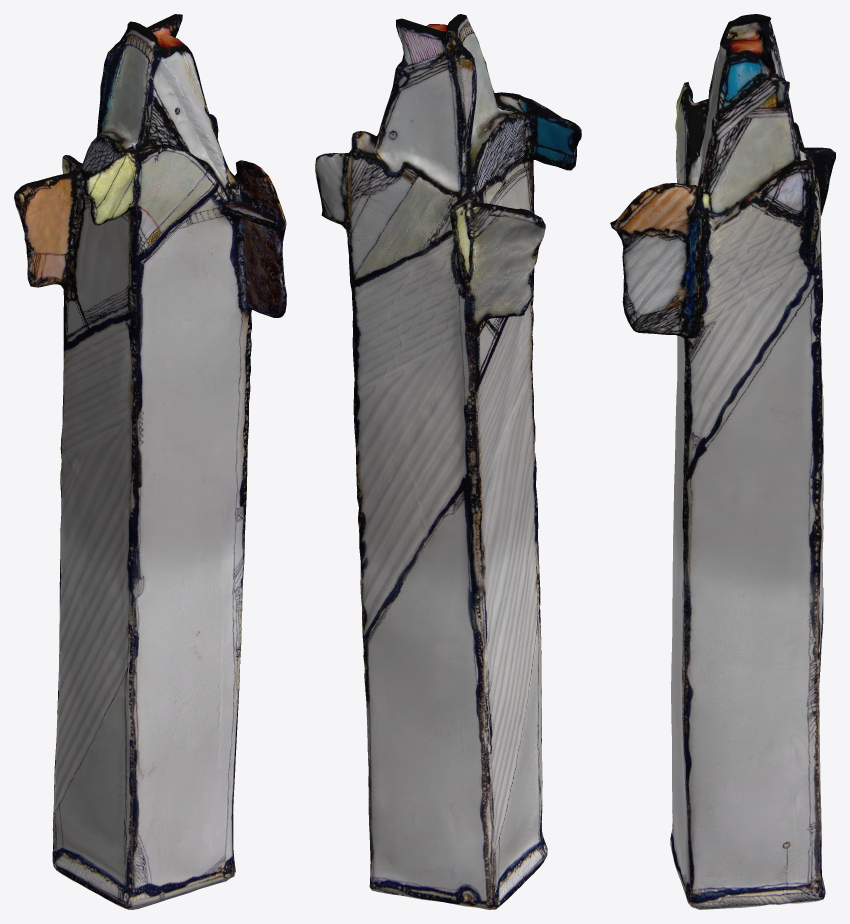
3 renders of one model, left to right at view 1: azimuth 30°, elevation 25°; view 2: azimuth 150°, elevation 25°; view 3: azimuth 270°, elevation 25°, orthographic.
Parts seen in each view (by area): view 1: 6-10-4k; view 2: 6-10-4k; view 3: 6-10-4k.
Part boxes in pixels (x1,y1,x2,y2): 6-10-4k: (14, 14, 286, 909); 6-10-4k: (315, 14, 581, 909); 6-10-4k: (610, 14, 835, 909).
Bounding box in the file's own units: 1.87 × 7.09 × 1.68.
1 material, 1 textured.
